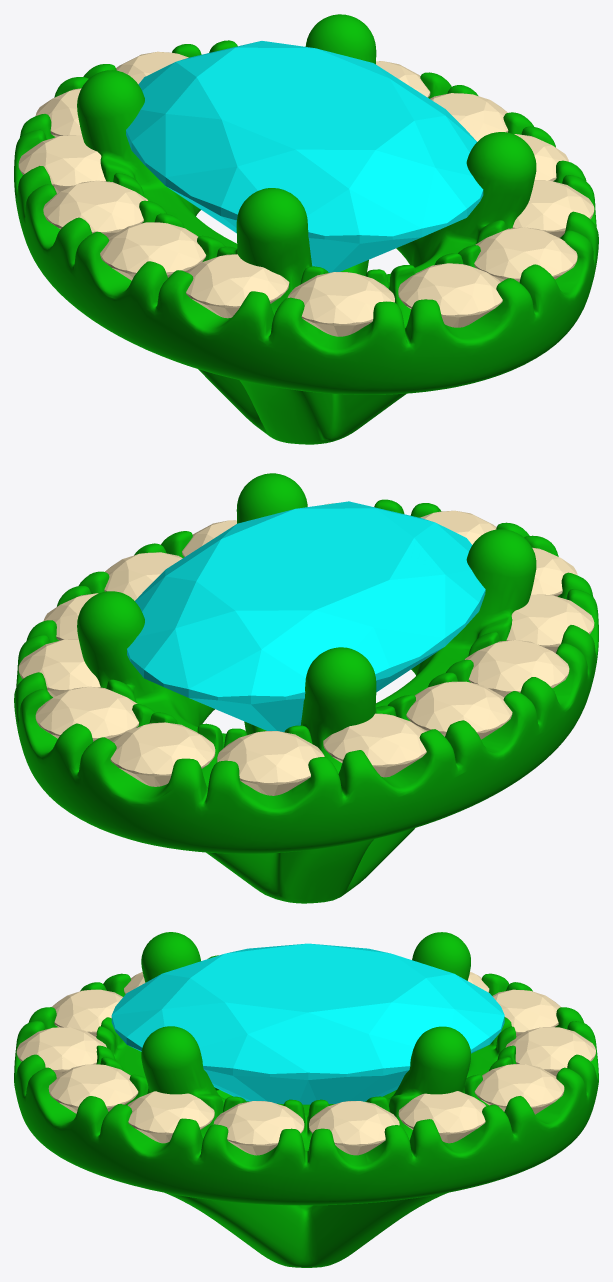
3 views of the same model, one above another, from view 1: azimuth 30°, elevation 25°; view 2: azimuth 150°, elevation 25°; view 3: azimuth 270°, elevation 25° (orthographic). The views are drawn at different scales.
Parts seen in each view (by area): view 1: Metal01, Diamond_Oval, Diamond_Round.013, Diamond_Round.012, Diamond_Round.001, Diamond_Round, Diamond_Round.011, Diamond_Round.002, Diamond_Round.003, Diamond_Round.010, Diamond_Round.008, Diamond_Round.004 (+3 smaller); view 2: Metal01, Diamond_Oval, Diamond_Round.004, Diamond_Round.005, Diamond_Round.002, Diamond_Round.003, Diamond_Round.006, Diamond_Round.001, Diamond_Round, Diamond_Round.007, Diamond_Round.009, Diamond_Round.013 (+3 smaller); view 3: Metal01, Diamond_Oval, Diamond_Round.008, Diamond_Round.009, Diamond_Round.006, Diamond_Round.007, Diamond_Round.011, Diamond_Round.010, Diamond_Round.005, Diamond_Round.012, Diamond_Round.013, Diamond_Round.004.
Part boxes in pixels (bbox=[...]): Metal01: bbox=[14, 14, 598, 444]; Diamond_Oval: bbox=[126, 41, 483, 272]; Diamond_Round.013: bbox=[287, 272, 394, 336]; Diamond_Round.012: bbox=[398, 263, 502, 327]; Diamond_Round.001: bbox=[100, 222, 206, 280]; Diamond_Round: bbox=[186, 254, 289, 318]; Diamond_Round.011: bbox=[474, 227, 577, 282]; Diamond_Round.002: bbox=[43, 180, 147, 237]; Diamond_Round.003: bbox=[18, 135, 105, 193]; Diamond_Round.010: bbox=[512, 180, 594, 237]; Diamond_Round.008: bbox=[430, 93, 508, 141]; Diamond_Round.004: bbox=[35, 88, 81, 137]; Metal01: bbox=[14, 473, 598, 903]; Diamond_Oval: bbox=[127, 501, 485, 731]; Diamond_Round.004: bbox=[217, 731, 324, 795]; Diamond_Round.005: bbox=[110, 722, 215, 786]; Diamond_Round.002: bbox=[406, 681, 512, 739]; Diamond_Round.003: bbox=[323, 713, 426, 777]; Diamond_Round.006: bbox=[35, 686, 138, 741]; Diamond_Round.001: bbox=[465, 640, 569, 697]; Diamond_Round: bbox=[506, 594, 594, 653]; Diamond_Round.007: bbox=[18, 639, 100, 697]; Diamond_Round.009: bbox=[104, 552, 182, 600]; Diamond_Round.013: bbox=[531, 547, 577, 596]; Metal01: bbox=[14, 932, 598, 1267]; Diamond_Oval: bbox=[111, 943, 504, 1104]; Diamond_Round.008: bbox=[309, 1101, 399, 1155]; Diamond_Round.009: bbox=[213, 1101, 304, 1155]; Diamond_Round.006: bbox=[474, 1064, 564, 1114]; Diamond_Round.007: bbox=[398, 1091, 485, 1143]; Diamond_Round.011: bbox=[48, 1064, 138, 1113]; Diamond_Round.010: bbox=[127, 1091, 214, 1143]; Diamond_Round.005: bbox=[505, 1027, 595, 1076]; Diamond_Round.012: bbox=[16, 1027, 106, 1076]; Diamond_Round.013: bbox=[51, 989, 122, 1036]; Diamond_Round.004: bbox=[492, 989, 561, 1036].
Size of the model in its own units: 7.57 by 5.03 by 9.67.
